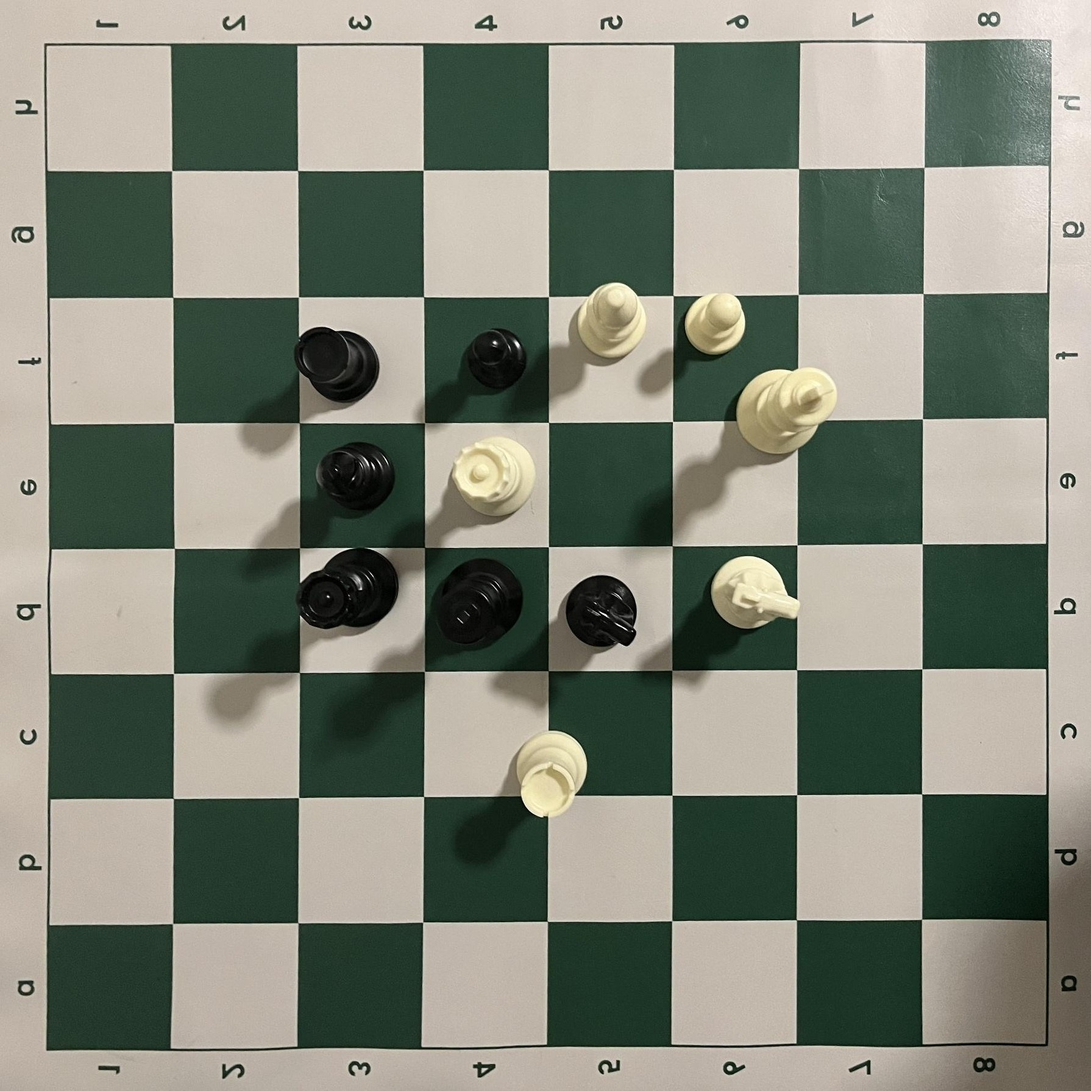black_bishop: (315, 441, 396, 511)
black_king: (430, 558, 524, 652)
black_knight: (565, 575, 639, 649)
black_pawn: (467, 327, 527, 389)
black_queen: (296, 548, 399, 631)
black_rook: (294, 326, 380, 403)
white_bishop: (577, 281, 647, 360)
white_king: (736, 365, 838, 454)
white_knight: (709, 556, 801, 630)
white_pawn: (684, 292, 746, 355)
white_queen: (450, 436, 536, 518)
white_rook: (515, 730, 589, 819)
